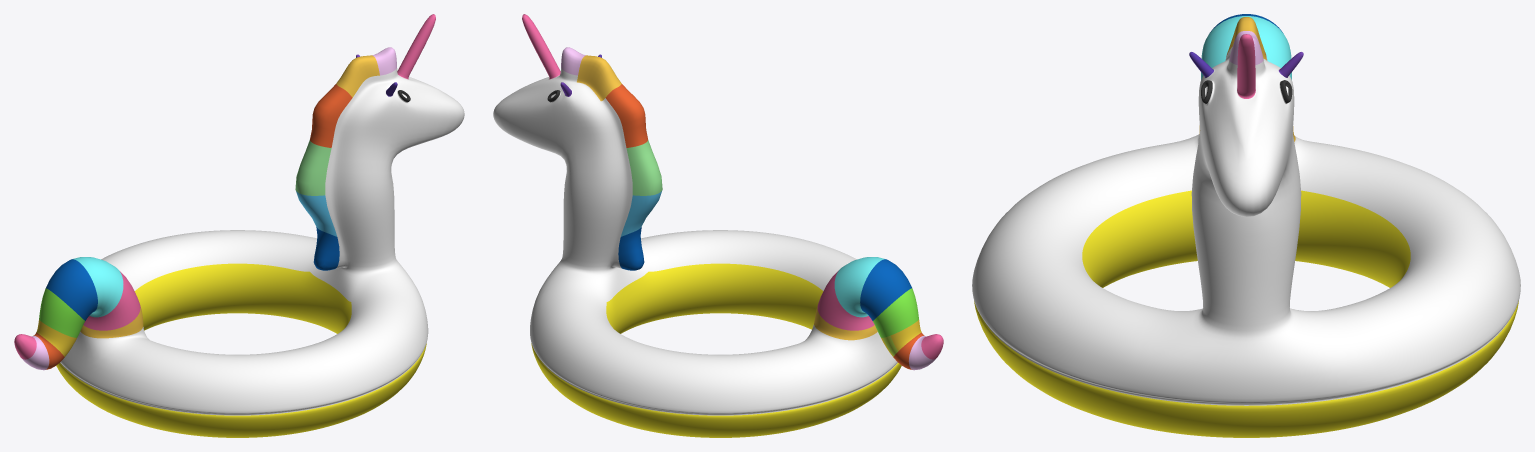
The model's file is colorful_inflatable_unicorn_2.fbx.
The picture shows the model from 3 angles, left to right: view 1: azimuth 30°, elevation 25°; view 2: azimuth 150°, elevation 25°; view 3: azimuth 270°, elevation 25°; orthographic projection. The views are drawn at different scales.
Parts seen in each view (by area): view 1: Torus; view 2: Torus; view 3: Torus.
Part boxes in pixels (x1,y1,x2,y2): Torus: (14,14,464,437); Torus: (493,14,943,437); Torus: (972,14,1520,437).
Bounding box in the file's own units: 348 × 230 × 256.
